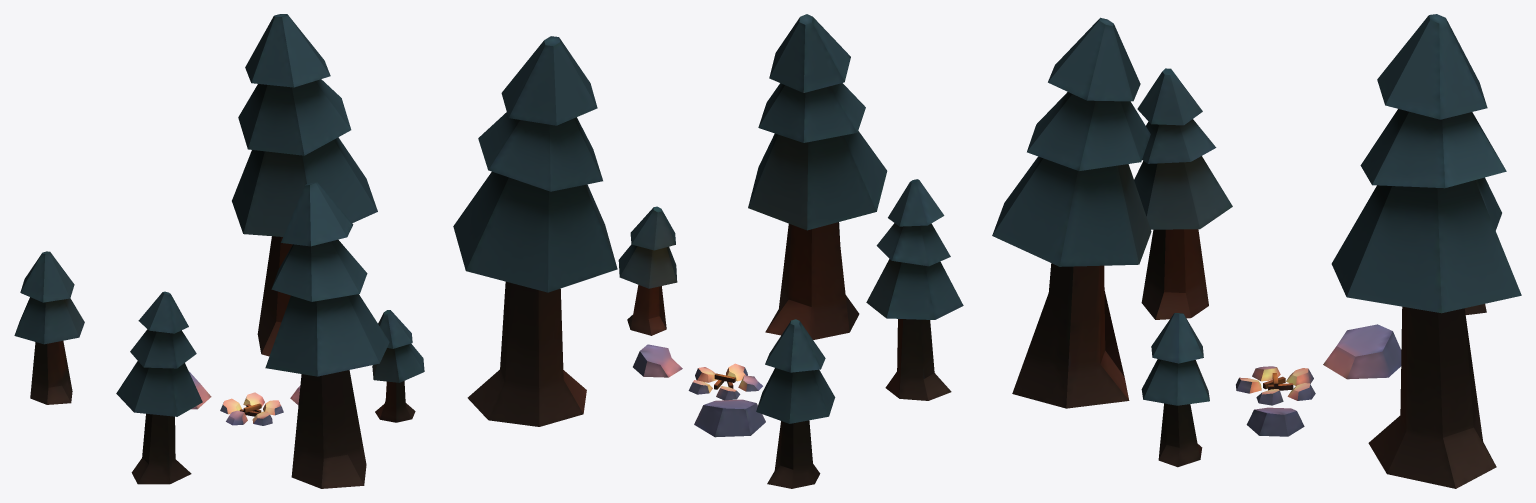
Rendered from tile_wood_2_lod1.fbx.
3 renders of one model, left to right at view 1: azimuth 30°, elevation 25°; view 2: azimuth 150°, elevation 25°; view 3: azimuth 270°, elevation 25°, orthographic. The views are drawn at different scales.
Parts seen in each view (by area): view 1: wood_2_lod1; view 2: wood_2_lod1; view 3: wood_2_lod1.
Part boxes in pixels (x1,y1,x2,y2): wood_2_lod1: (14,14,424,488); wood_2_lod1: (453,14,963,488); wood_2_lod1: (992,14,1521,488).
Size of the model in its own units: 0.0496 by 0.0457 by 0.0511.
